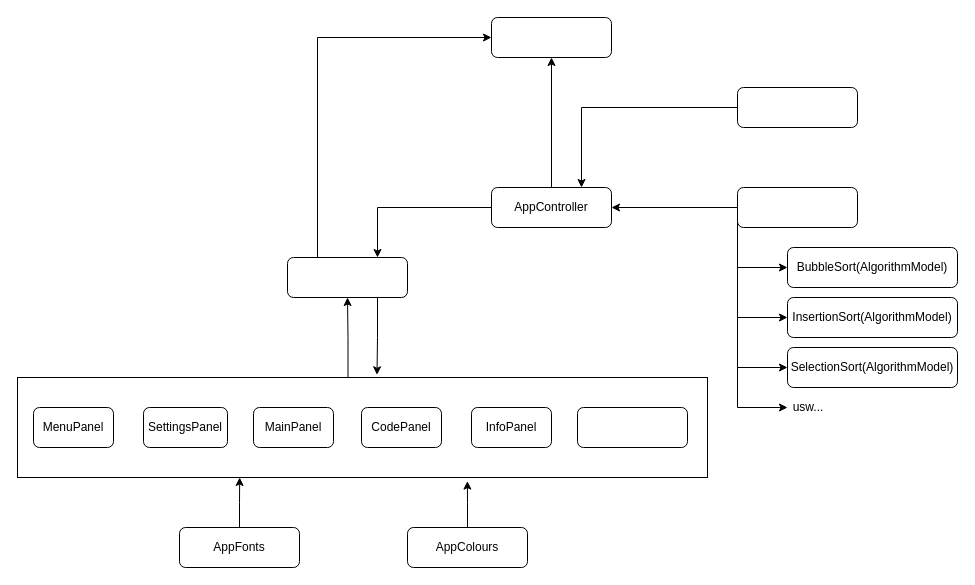
This 975x585 diagram has some shape labels left out. The shapes that lost their labels are listed below. From the top down, each one's box as (x1, y1, x2, y2) in pixels, then its label:
(490, 16, 612, 58): MainApp
(736, 86, 858, 128): AppStates
(736, 186, 858, 228): AlgorithmModel
(286, 256, 408, 298): UIManager
(576, 406, 688, 448): AnimationPanel
